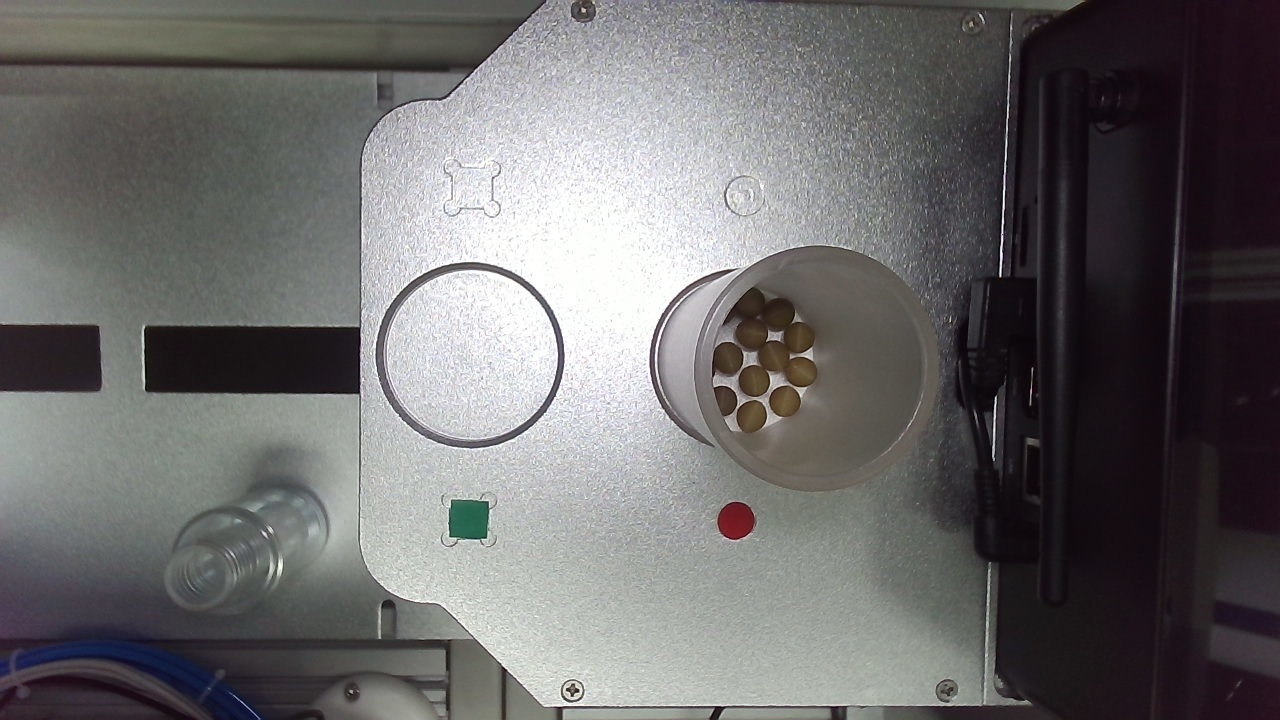XLabel: (576, 282, 609, 314)
YLabel: (354, 282, 389, 317)
none: (512, 350, 674, 513)
transparenexcept: (153, 343, 450, 555)
